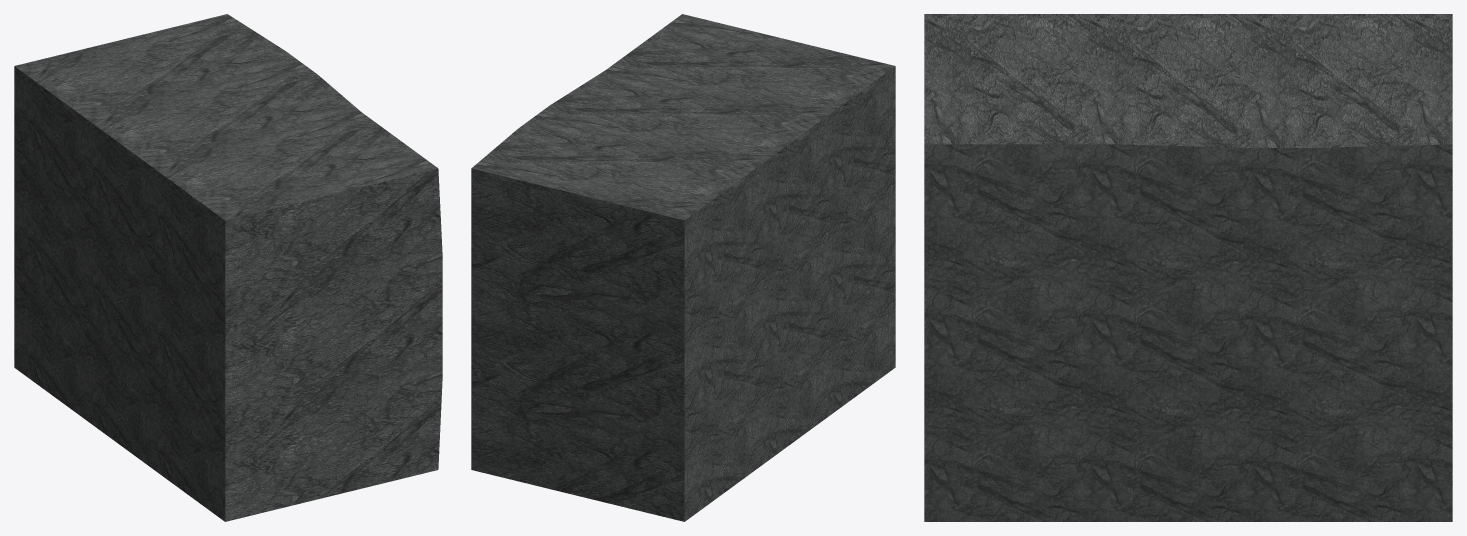
File: BadRockThingIdanWantsAndForcedMeToMakeNOTMYWORK.fbx
The picture shows the model from 3 angles, left to right: view 1: azimuth 30°, elevation 25°; view 2: azimuth 150°, elevation 25°; view 3: azimuth 270°, elevation 25°; orthographic projection. The views are drawn at different scales.
Parts seen in each view (by area): view 1: pCube1; view 2: pCube1; view 3: pCube1.
Boxes of the visible parts, x1,y1,x2,y2 form: pCube1: (14,14,442,521); pCube1: (471,14,895,521); pCube1: (924,14,1452,521).
Size of the model in its own units: 10 by 13 by 16.49.
1 material, 1 textured.
